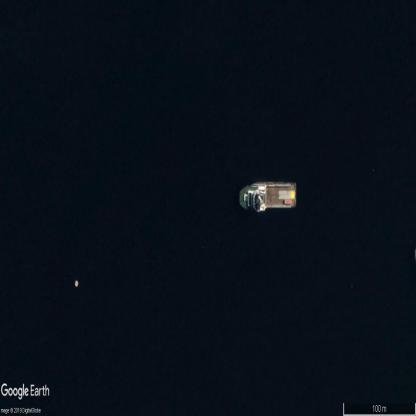ship: (240, 180, 298, 213)
